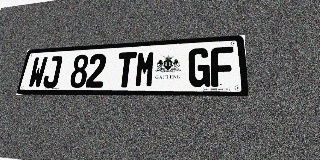2: (85, 53, 107, 88)
8: (69, 54, 90, 88)
F: (211, 46, 235, 87)
G: (188, 48, 210, 87)
J: (42, 56, 63, 88)
M: (134, 51, 156, 87)
T: (115, 52, 137, 87)
W: (27, 56, 48, 88)
